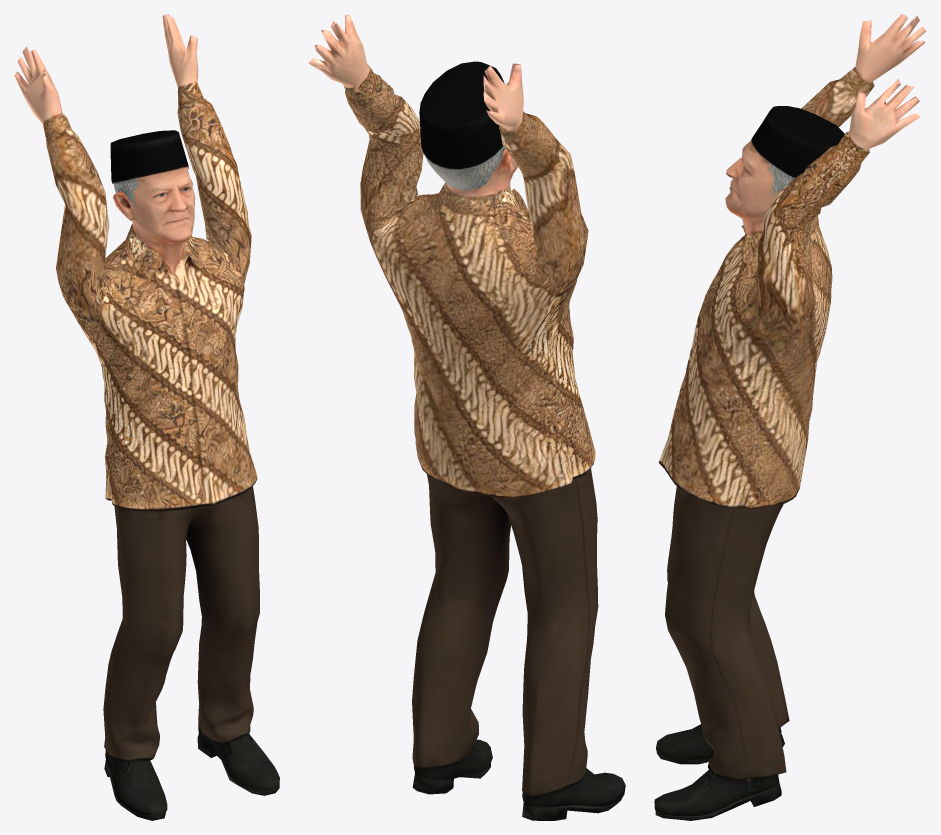
File: fan_uncle_stand.glb
3 renders of one model, left to right at view 1: azimuth 30°, elevation 25°; view 2: azimuth 150°, elevation 25°; view 3: azimuth 270°, elevation 25°, orthographic. The views are drawn at different scales.
Visible parts, largest first — view 1: char1; view 2: char1; view 3: char1.
Part boxes in pixels (bbox=[...]): char1: bbox=[14, 14, 279, 820]; char1: bbox=[308, 14, 625, 820]; char1: bbox=[654, 14, 926, 820].
Size of the model in its own units: 0.5023 by 1.8 by 0.6011.
Materials: 1 (1 with a texture image).
